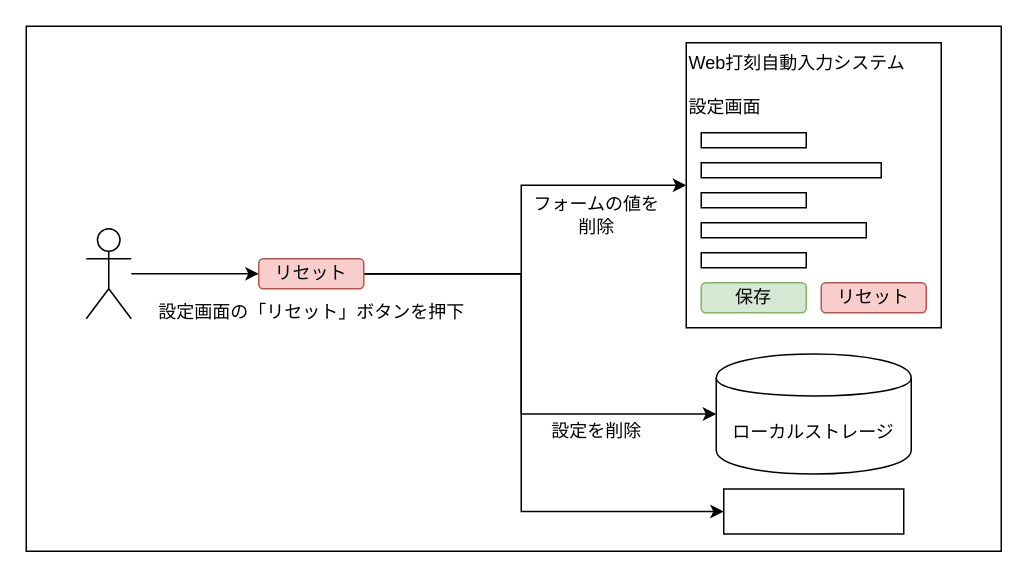
This 1028x578 diagram has some shape labels left out. The centre of each missing label's shape, as x and y in pixels:
ユーザ: pixel 108 273
通知を表示: pixel 813 511
